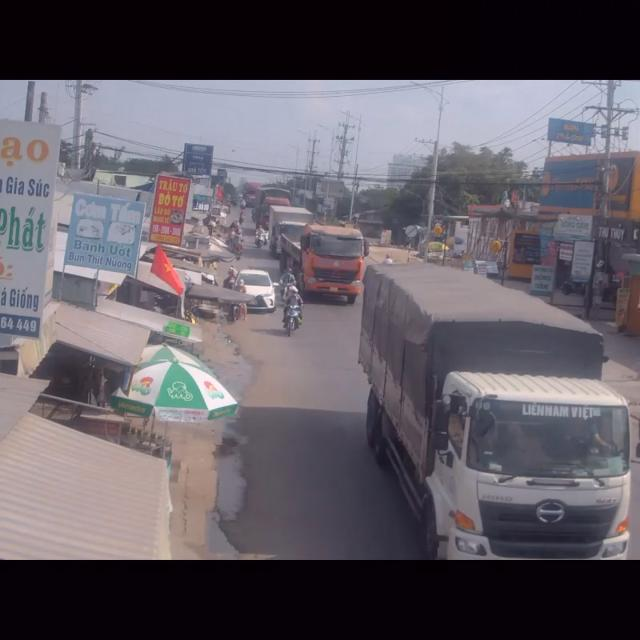motorbike: (282, 284, 303, 340)
truck: (351, 272, 632, 562), (279, 219, 369, 305)
